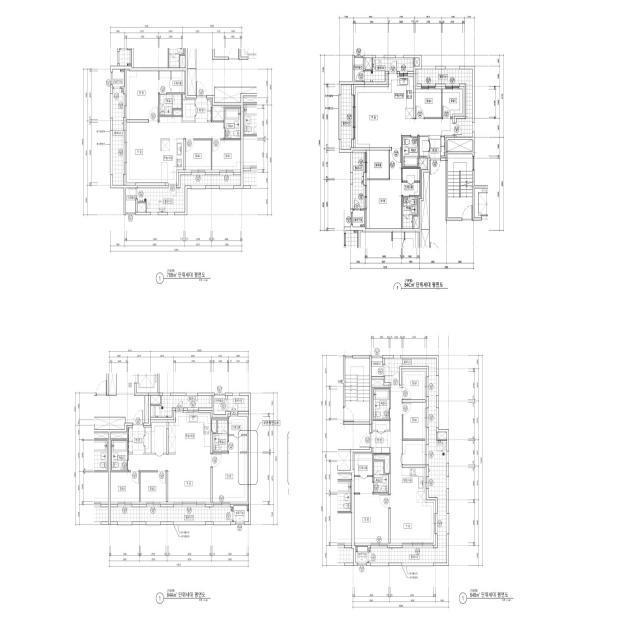space_balconi: (369, 358, 447, 563), (138, 175, 241, 212), (417, 69, 472, 137), (111, 507, 233, 522), (151, 396, 212, 417), (365, 58, 414, 82), (113, 88, 123, 185), (341, 85, 351, 150), (353, 153, 363, 209), (227, 396, 249, 411)
space_bedroom: (367, 150, 401, 229), (354, 494, 388, 543), (213, 453, 247, 502), (127, 71, 158, 119), (212, 140, 241, 170), (111, 472, 139, 502), (403, 403, 425, 439), (185, 140, 211, 170), (140, 472, 166, 502), (415, 89, 441, 117), (403, 371, 425, 400), (442, 89, 462, 117)
space_dressroom: (354, 454, 373, 493), (229, 416, 247, 452), (159, 71, 184, 93), (402, 169, 419, 195)
space_front: (128, 425, 144, 454), (371, 432, 390, 454), (196, 97, 211, 122), (429, 135, 445, 156)
space_kitchen: (168, 413, 211, 453), (389, 74, 413, 119), (160, 139, 183, 183), (402, 468, 425, 503)
space_living_room: (390, 387, 434, 543), (127, 117, 224, 183), (355, 87, 453, 147), (128, 454, 211, 502)
space_multipurpose_space: (367, 150, 389, 179)
space_other: (403, 440, 425, 465), (421, 172, 429, 229), (152, 422, 166, 453), (374, 455, 389, 473), (448, 140, 472, 151), (183, 100, 195, 121), (126, 188, 136, 212), (214, 396, 226, 415), (354, 58, 363, 82), (372, 358, 383, 376), (419, 137, 428, 156), (212, 107, 224, 121), (373, 420, 389, 430), (145, 428, 151, 453), (145, 396, 149, 423), (111, 433, 127, 439), (419, 158, 427, 168), (365, 58, 372, 69), (138, 203, 146, 212), (372, 379, 384, 385), (151, 396, 160, 404), (437, 432, 447, 439), (212, 420, 217, 432), (414, 217, 418, 229), (173, 110, 182, 115), (415, 58, 419, 66)
space_outdoor_room: (234, 506, 249, 522), (113, 69, 124, 87), (356, 547, 368, 563), (353, 210, 364, 227)
space_staircase: (345, 358, 370, 422), (448, 154, 472, 218)
space_toilet: (225, 108, 241, 139), (159, 94, 182, 115), (402, 137, 418, 167), (213, 420, 228, 452), (402, 197, 417, 229), (112, 440, 127, 471), (374, 389, 389, 419), (374, 461, 388, 493)
